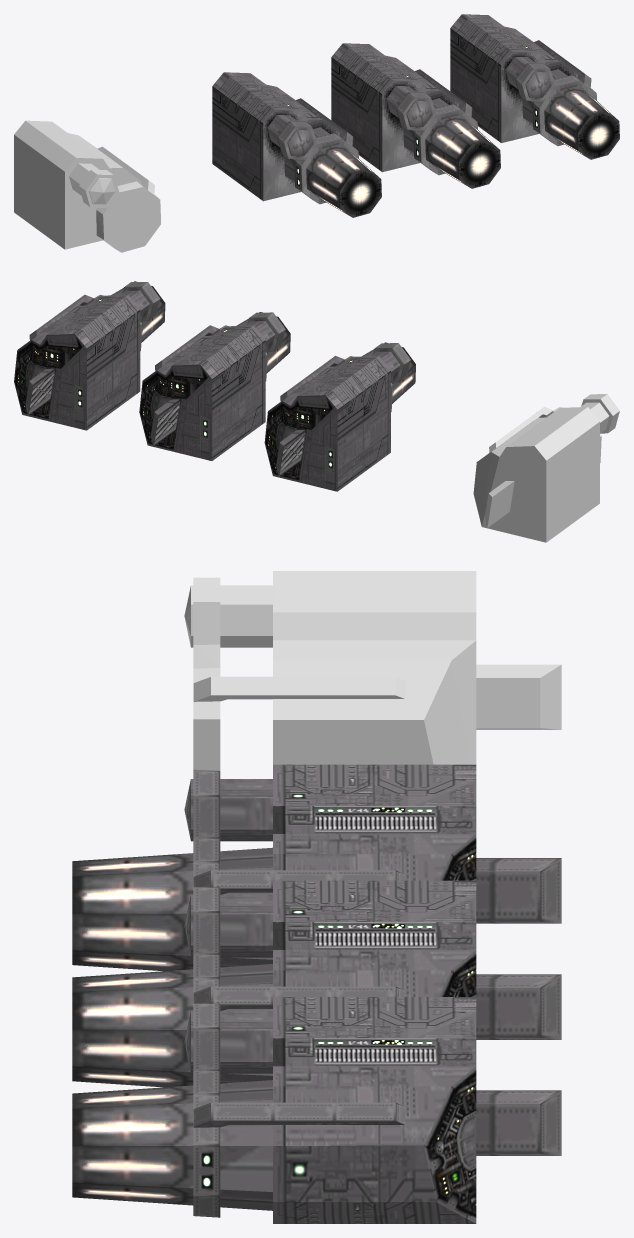
Rendered from ksh_sec_ms_biggun.dae.
3 views of the same model, one above another, from view 1: azimuth 30°, elevation 25°; view 2: azimuth 150°, elevation 25°; view 3: azimuth 270°, elevation 25° (orthographic). The views are drawn at different scales.
Parts seen in each view (by area): view 1: COL[Root], MULT[root_mesh]_LOD[0], MULT[root_mesh]_LOD[1], MULT[root_mesh]_LOD[2], MULT[barrel]_LOD[1], MULT[barrel]_LOD[2], MULT[barrel]_LOD[0]; view 2: MULT[root_mesh]_LOD[2], MULT[root_mesh]_LOD[1], COL[Root], MULT[root_mesh]_LOD[0], MULT[barrel]_LOD[0], MULT[barrel]_LOD[1], MULT[barrel]_LOD[2]; view 3: MULT[root_mesh]_LOD[2], COL[Root], MULT[root_mesh]_LOD[1], MULT[root_mesh]_LOD[0], MULT[barrel]_LOD[2], MULT[barrel]_LOD[1], MULT[barrel]_LOD[0].
Boxes of the visible parts, x1=… form: COL[Root]: x1=14, y1=120, x2=160, y2=252; MULT[root_mesh]_LOD[0]: x1=212, y1=72, x2=358, y2=204; MULT[root_mesh]_LOD[1]: x1=331, y1=43, x2=477, y2=175; MULT[root_mesh]_LOD[2]: x1=450, y1=14, x2=596, y2=146; MULT[barrel]_LOD[1]: x1=403, y1=98, x2=500, y2=188; MULT[barrel]_LOD[2]: x1=522, y1=69, x2=619, y2=159; MULT[barrel]_LOD[0]: x1=284, y1=127, x2=381, y2=217; MULT[root_mesh]_LOD[2]: x1=14, y1=282, x2=160, y2=430; MULT[root_mesh]_LOD[1]: x1=139, y1=312, x2=285, y2=460; COL[Root]: x1=473, y1=394, x2=619, y2=542; MULT[root_mesh]_LOD[0]: x1=264, y1=343, x2=410, y2=491; MULT[barrel]_LOD[0]: x1=361, y1=342, x2=415, y2=403; MULT[barrel]_LOD[1]: x1=236, y1=312, x2=290, y2=373; MULT[barrel]_LOD[2]: x1=111, y1=281, x2=165, y2=342; MULT[root_mesh]_LOD[2]: x1=184, y1=997, x2=561, y2=1223; COL[Root]: x1=184, y1=571, x2=561, y2=771; MULT[root_mesh]_LOD[1]: x1=184, y1=880, x2=561, y2=1039; MULT[root_mesh]_LOD[0]: x1=184, y1=764, x2=561, y2=923; MULT[barrel]_LOD[2]: x1=72, y1=1080, x2=272, y2=1210; MULT[barrel]_LOD[1]: x1=72, y1=964, x2=272, y2=1087; MULT[barrel]_LOD[0]: x1=72, y1=847, x2=272, y2=971.
Size of the model in its own units: 1183 by 195 by 486.
9 materials, 9 textured.
